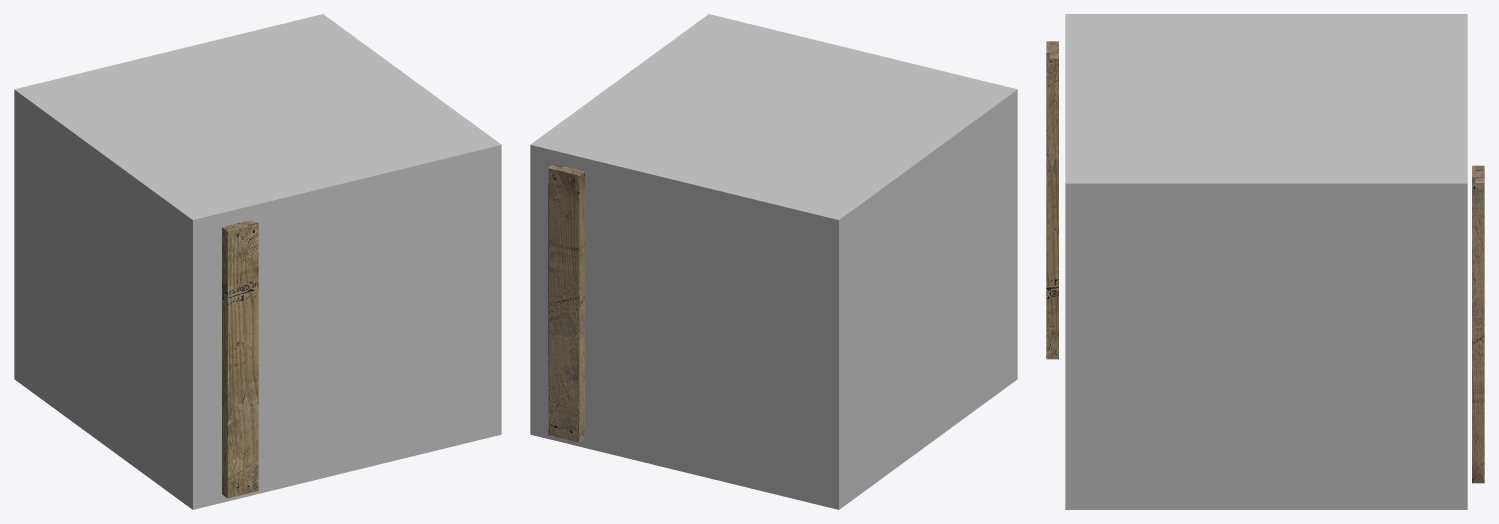
The model's file is cratesquare.DAE.
3 views of the same model, side by side, from view 1: azimuth 30°, elevation 25°; view 2: azimuth 150°, elevation 25°; view 3: azimuth 270°, elevation 25° (orthographic). The views are drawn at different scales.
Visible parts, largest first — view 1: bounds, cratesquarebrokend400; view 2: bounds, cratesquarebrokenc400; view 3: bounds, cratesquarebrokenc400, cratesquarebrokend400.
Part boxes in pixels (x1=…): bounds: x1=14, y1=14, x2=501, y2=509; cratesquarebrokend400: x1=222, y1=219, x2=258, y2=498; bounds: x1=530, y1=14, x2=1017, y2=509; cratesquarebrokenc400: x1=548, y1=164, x2=584, y2=442; bounds: x1=1065, y1=14, x2=1467, y2=509; cratesquarebrokenc400: x1=1472, y1=165, x2=1484, y2=483; cratesquarebrokend400: x1=1046, y1=41, x2=1058, y2=359.
Size of the model in its own units: 1.26 by 1.37 by 1.13.
